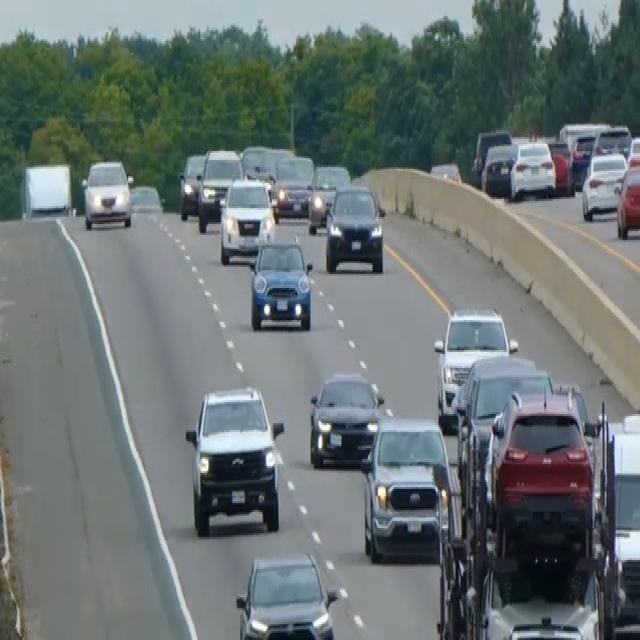car: (483, 386, 597, 567), (452, 350, 553, 510), (360, 414, 457, 564), (432, 306, 517, 430), (234, 550, 339, 638), (308, 368, 391, 468), (248, 237, 313, 331), (324, 181, 384, 274), (218, 174, 275, 263), (196, 146, 243, 233), (80, 156, 133, 230), (581, 147, 627, 220), (306, 162, 351, 233), (509, 135, 556, 199), (272, 153, 314, 219), (240, 142, 293, 188), (471, 125, 512, 182), (480, 140, 517, 198), (178, 151, 206, 219), (615, 162, 639, 238), (569, 130, 597, 188), (547, 137, 573, 194), (592, 123, 631, 158), (627, 133, 639, 167)
jeep: (183, 382, 285, 537)
lorry: (477, 551, 605, 638), (21, 158, 73, 220)
